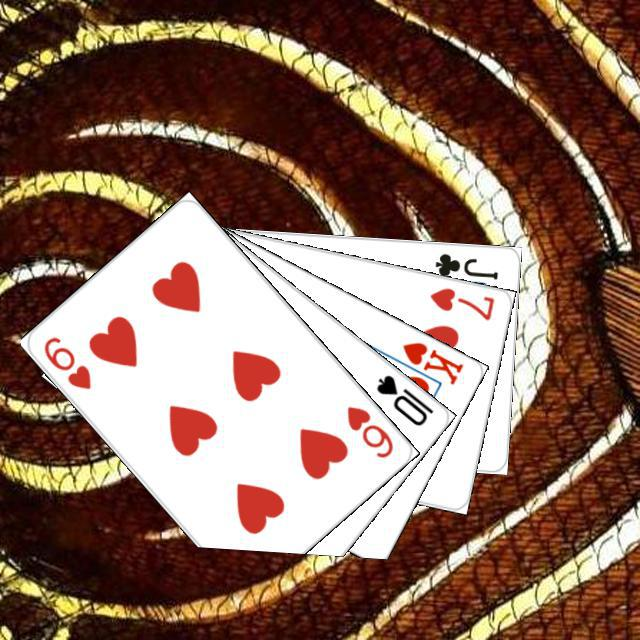10s: (371, 369, 436, 428)
6h: (38, 331, 93, 391), (341, 401, 396, 460)
7h: (425, 282, 496, 323)
Jc: (430, 248, 500, 281)
Kh: (384, 337, 465, 390)
